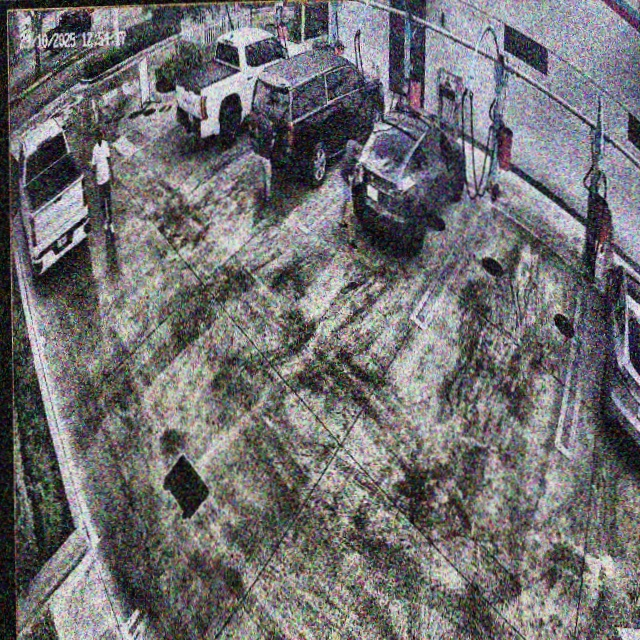Car: (346, 105, 472, 257), (248, 63, 390, 190)
